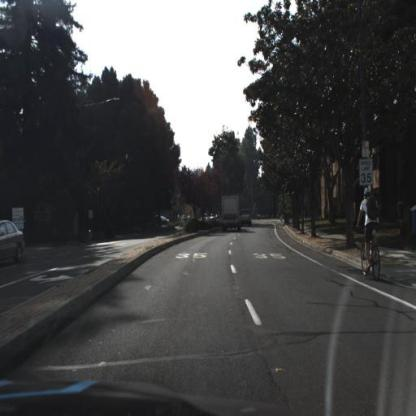biker: (357, 187, 384, 282)
car: (1, 220, 26, 265), (240, 205, 256, 229)
truck: (220, 189, 244, 233)
